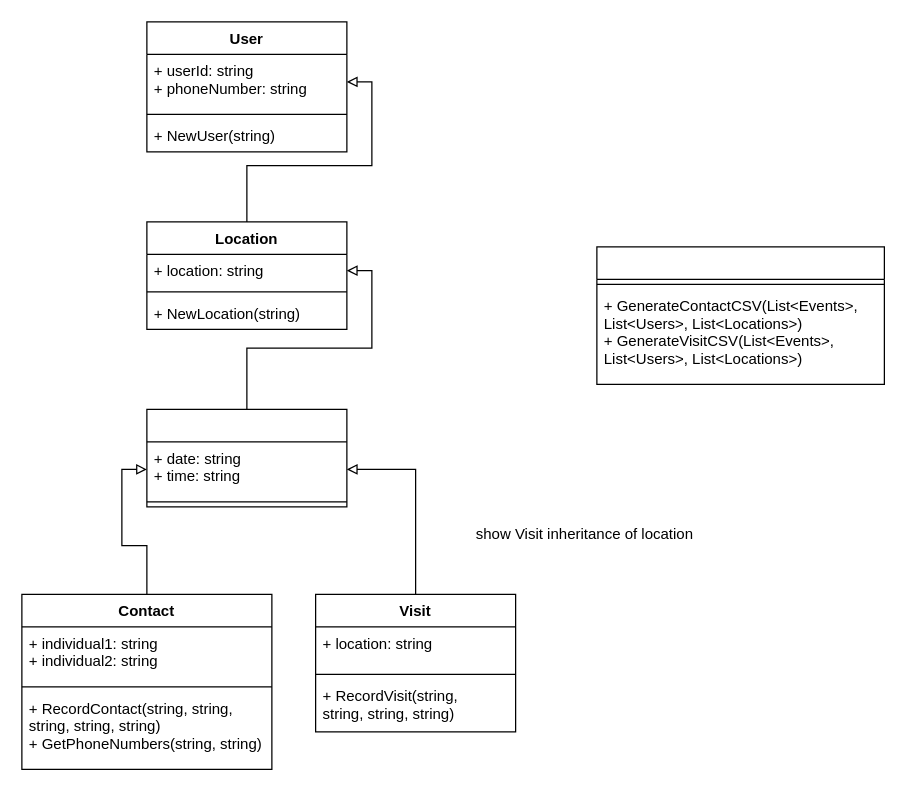
Some shapes in this 906 by 795 pixel diagram are drawn without their labels. The shapes that lost their labels are listed below. From the top down, each one's box as (x1, y1, x2, y2) in pixels, then its label:
(596, 246, 884, 384): GenerateCSV
(146, 408, 347, 507): Event
